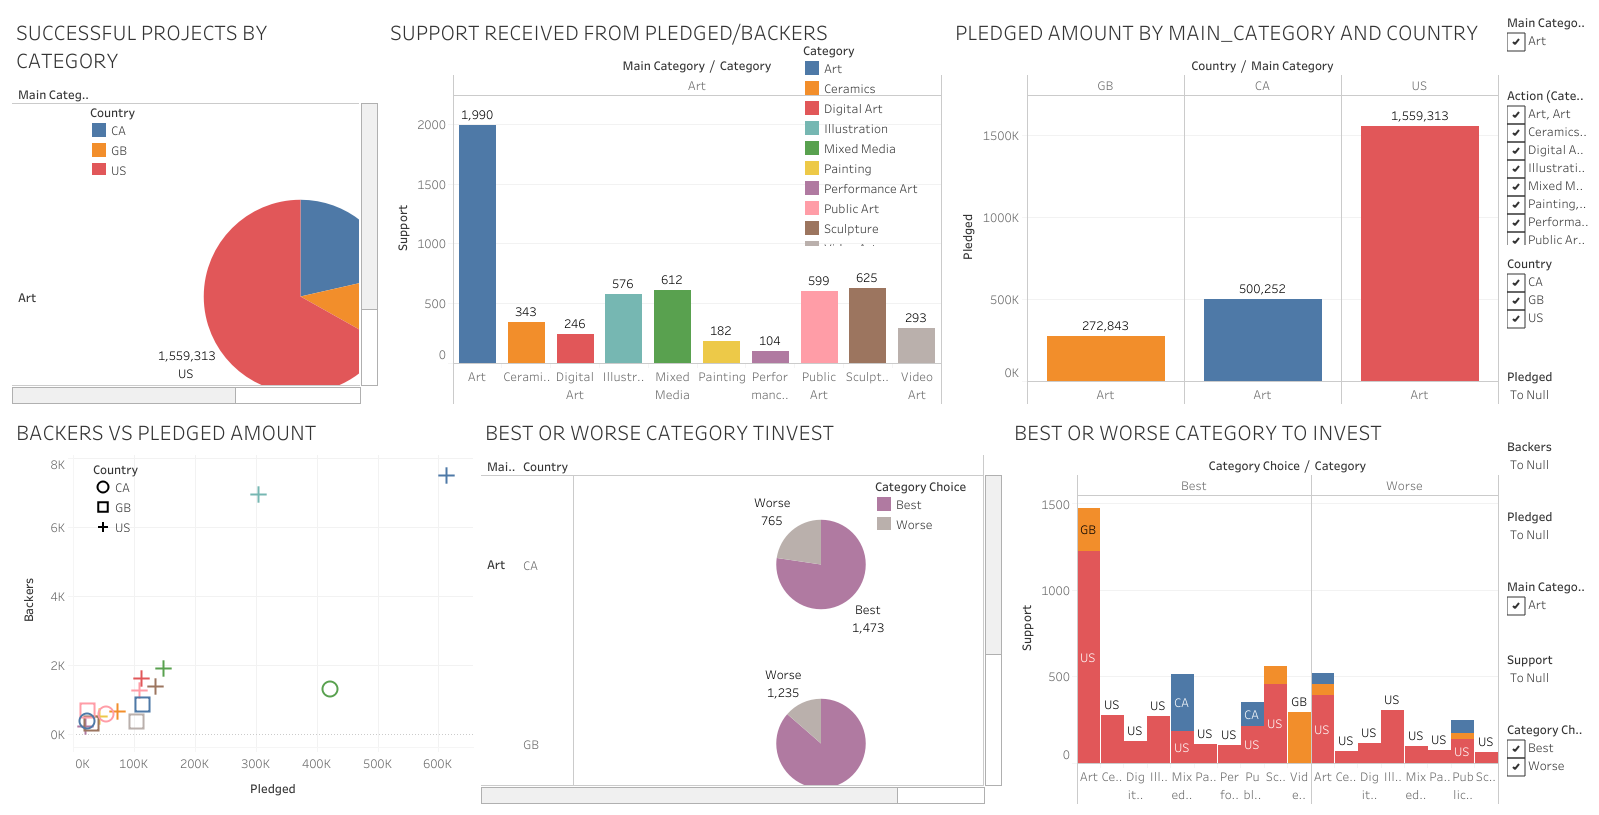

Layout of this report page (visuals, bound fields, positions):
{"tool":"tableau","page":{"name":"ksproject_dashboard","canvas":[1000,1000],"units":"permille","ordinal":0},"visuals":[{"type":"worksheet","title":"Sheet 3","mark":"Pie","rows":["Main_Category"],"box":[5,9.3,233.6,490.7]},{"type":"worksheet","title":"Sheet 5","mark":"Automatic","rows":["Support"],"cols":["Main_Category","Category"],"box":[238.6,9.3,353.3,490.7]},{"type":"worksheet","title":"Sheet 2","mark":"Automatic","rows":["Pledged"],"cols":["Country","Main_Category"],"box":[591.9,9.3,347.5,490.7]},{"type":"filter","title":"Sheet 5","param":"[federated.0qmoenv111p87i1dx0bhe17x5vha].[none:Main_Category:nk]","box":[939.4,9.3,55.6,81.4]},{"type":"legend","title":"Sheet 4","param":"[federated.0qmoenv111p87i1dx0bhe17x5vha].[none:Category:nk]","box":[501.2,47.7,87.5,253.5]},{"type":"filter","title":"Sheet 3","param":"[federated.0qmoenv111p87i1dx0bhe17x5vha].[Action (Category,Main Category)]","box":[939.4,90.7,55.6,268.6]},{"type":"legend","title":"Sheet 2","param":"[federated.0qmoenv111p87i1dx0bhe17x5vha].[none:Country:nk]","box":[18.1,110.5,87.5,90.7]},{"type":"filter","title":"Sheet 6","param":"[federated.0qmoenv111p87i1dx0bhe17x5vha].[none:Country:nk]","box":[939.4,359.3,55.6,125.6]},{"type":"filter","title":"Sheet 2","param":"[federated.0qmoenv111p87i1dx0bhe17x5vha].[sum:Pledged:qk]","box":[939.4,484.9,55.6,80.2]},{"type":"worksheet","title":"Sheet 4","mark":"Automatic","rows":["Backers"],"cols":["Pledged"],"box":[5,500,293.1,490.7]},{"type":"worksheet","title":"Sheet 6","mark":"Pie","rows":["Main_Category","Country"],"box":[298.1,500,330.6,490.7]},{"type":"worksheet","title":"Sheet 6 (3)","mark":"Automatic","rows":["Support"],"cols":["category_choice","Category"],"box":[628.8,500,310.6,490.7]},{"type":"legend","title":"Sheet 4","param":"[federated.0qmoenv111p87i1dx0bhe17x5vha].[none:Country:nk]","box":[48.8,557,87.5,90.7]},{"type":"filter","title":"Sheet 4","param":"[federated.0qmoenv111p87i1dx0bhe17x5vha].[sum:Backers:qk]","box":[939.4,565.1,55.6,80.2]},{"type":"legend","title":"Sheet 6","param":"[federated.0qmoenv111p87i1dx0bhe17x5vha].[none:category_choice:nk]","box":[546.2,582.6,66.9,67.4]},{"type":"filter","title":"Sheet 4","param":"[federated.0qmoenv111p87i1dx0bhe17x5vha].[sum:Pledged:qk]","box":[939.4,645.4,55.6,80.2]},{"type":"filter","title":"Sheet 3","param":"[federated.0qmoenv111p87i1dx0bhe17x5vha].[none:Main_Category:nk]","box":[939.4,725.6,55.6,81.4]},{"type":"filter","title":"Sheet 6","param":"[federated.0qmoenv111p87i1dx0bhe17x5vha].[sum:Support:qk]","box":[939.4,807,55.6,80.2]},{"type":"filter","title":"Sheet 6 (3)","param":"[federated.0qmoenv111p87i1dx0bhe17x5vha].[none:category_choice:nk]","box":[939.4,887.2,55.6,103.5]}]}

Visuals, with their boxes on the dashboard's canvas, which has no fixed pixel size, in thousandths of its width and height (x1, y1, x2, y2). These are canvas units, not pixel positions in the 1599x815 screenshot, which may show the page scaled, cropped or inside an application window:
"Sheet 3" worksheet (Pie marks): box(5, 9, 239, 500)
"Sheet 5" worksheet: box(239, 9, 592, 500)
"Sheet 2" worksheet: box(592, 9, 939, 500)
"Sheet 5" filter: box(939, 9, 995, 91)
"Sheet 4" legend: box(501, 48, 589, 301)
"Sheet 3" filter: box(939, 91, 995, 359)
"Sheet 2" legend: box(18, 110, 106, 201)
"Sheet 6" filter: box(939, 359, 995, 485)
"Sheet 2" filter: box(939, 485, 995, 565)
"Sheet 4" worksheet: box(5, 500, 298, 991)
"Sheet 6" worksheet (Pie marks): box(298, 500, 629, 991)
"Sheet 6 (3)" worksheet: box(629, 500, 939, 991)
"Sheet 4" legend: box(49, 557, 136, 648)
"Sheet 4" filter: box(939, 565, 995, 645)
"Sheet 6" legend: box(546, 583, 613, 650)
"Sheet 4" filter: box(939, 645, 995, 726)
"Sheet 3" filter: box(939, 726, 995, 807)
"Sheet 6" filter: box(939, 807, 995, 887)
"Sheet 6 (3)" filter: box(939, 887, 995, 991)
